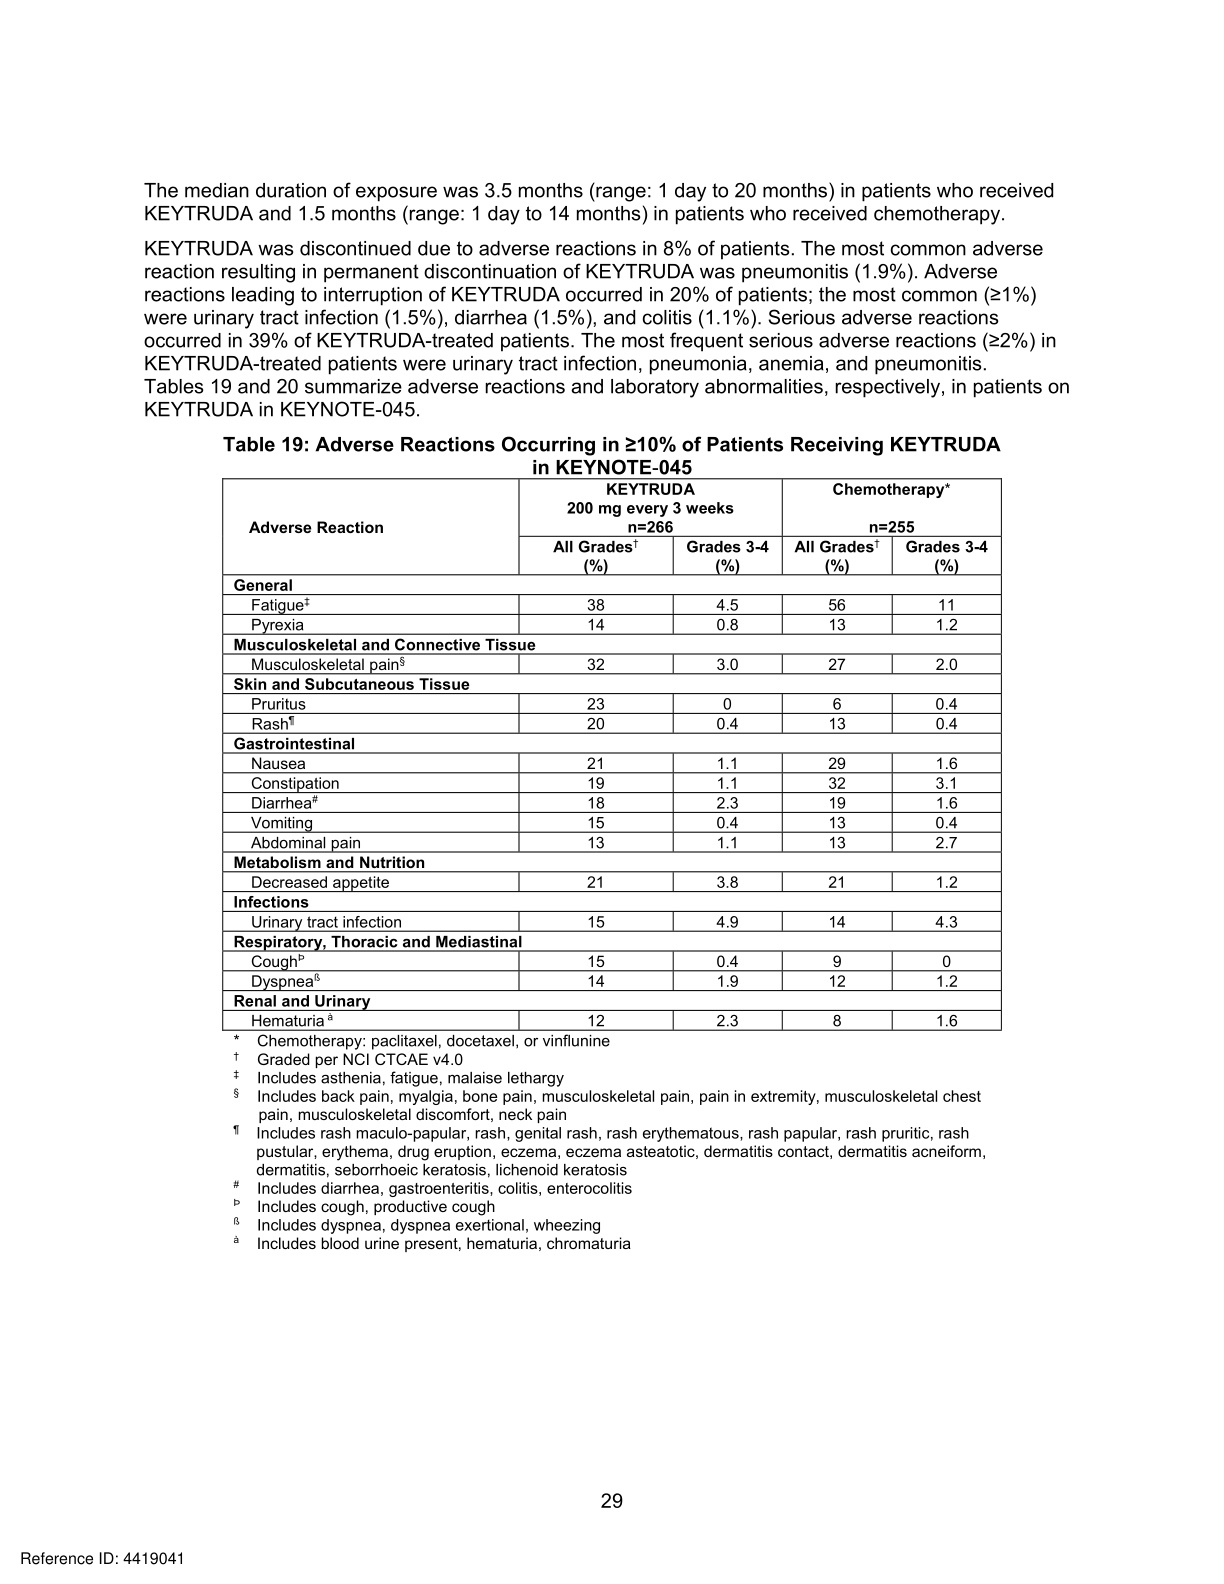merged_cells: (221, 477, 1003, 1031)
